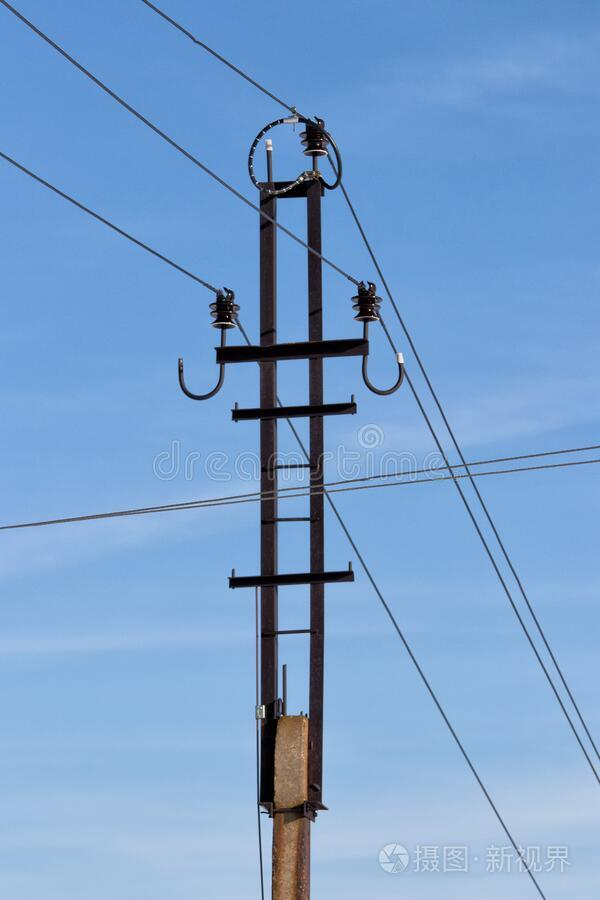insulator: (207, 297, 243, 332), (299, 125, 333, 159), (351, 291, 385, 323)
